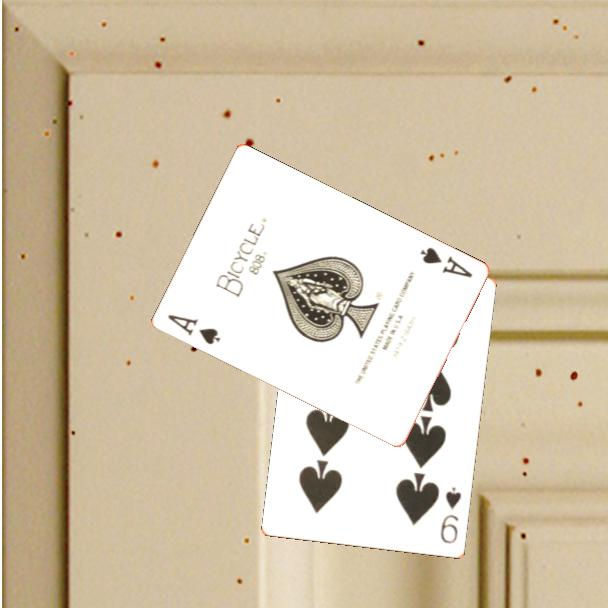s01: (163, 311, 222, 348), (416, 244, 475, 281)
s09: (437, 484, 464, 547)
